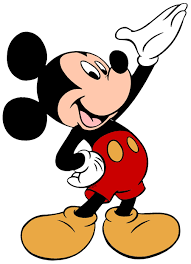mickey: (2, 1, 187, 260)
